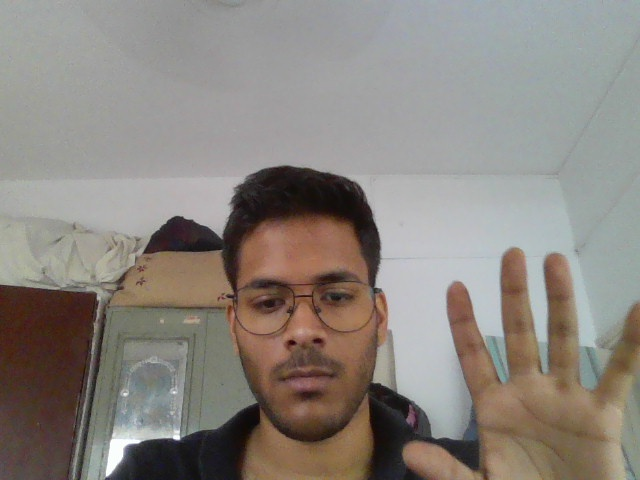hello: (388, 231, 640, 480)
